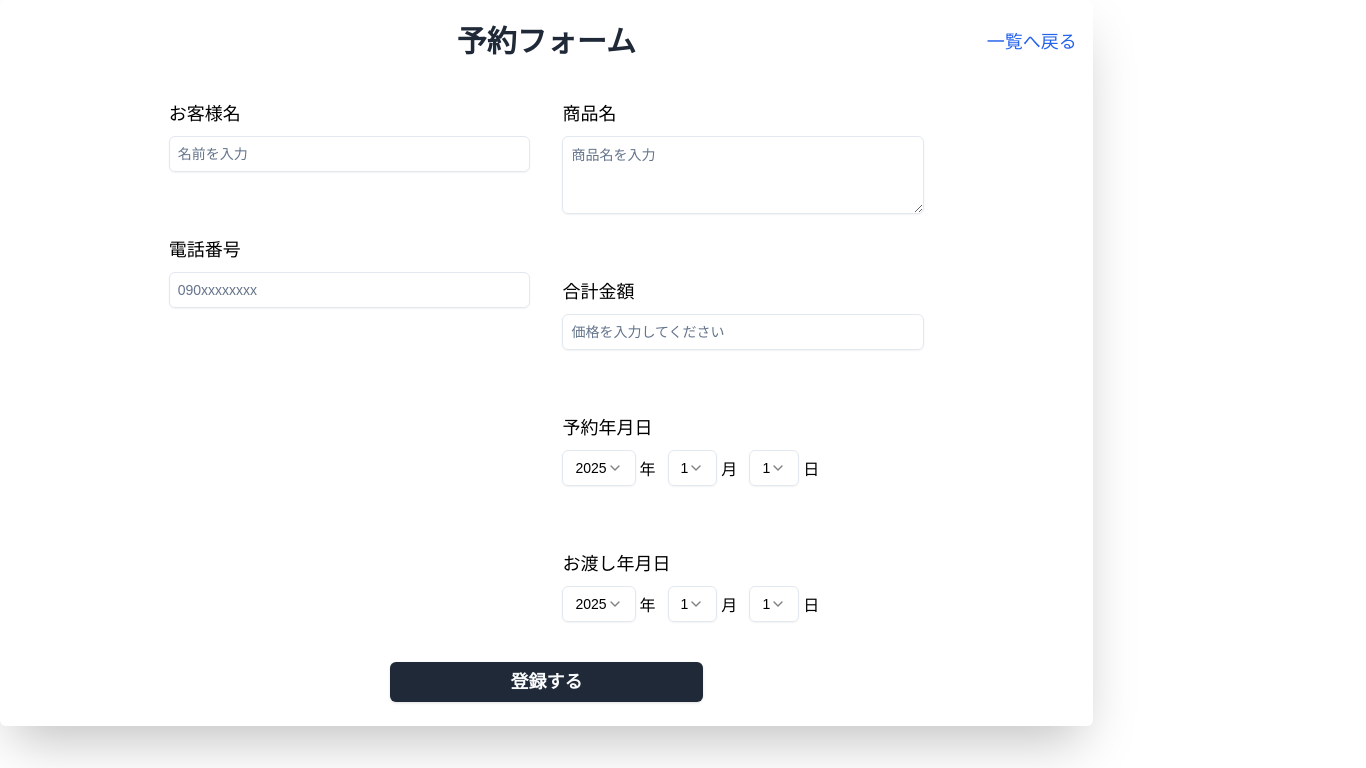
it: CreateForm › APIが失敗した場合、エラーメッセージが表示される
In the field labelled "お客様名": (350, 154) [169,136,530,172], type "テストユーザー"
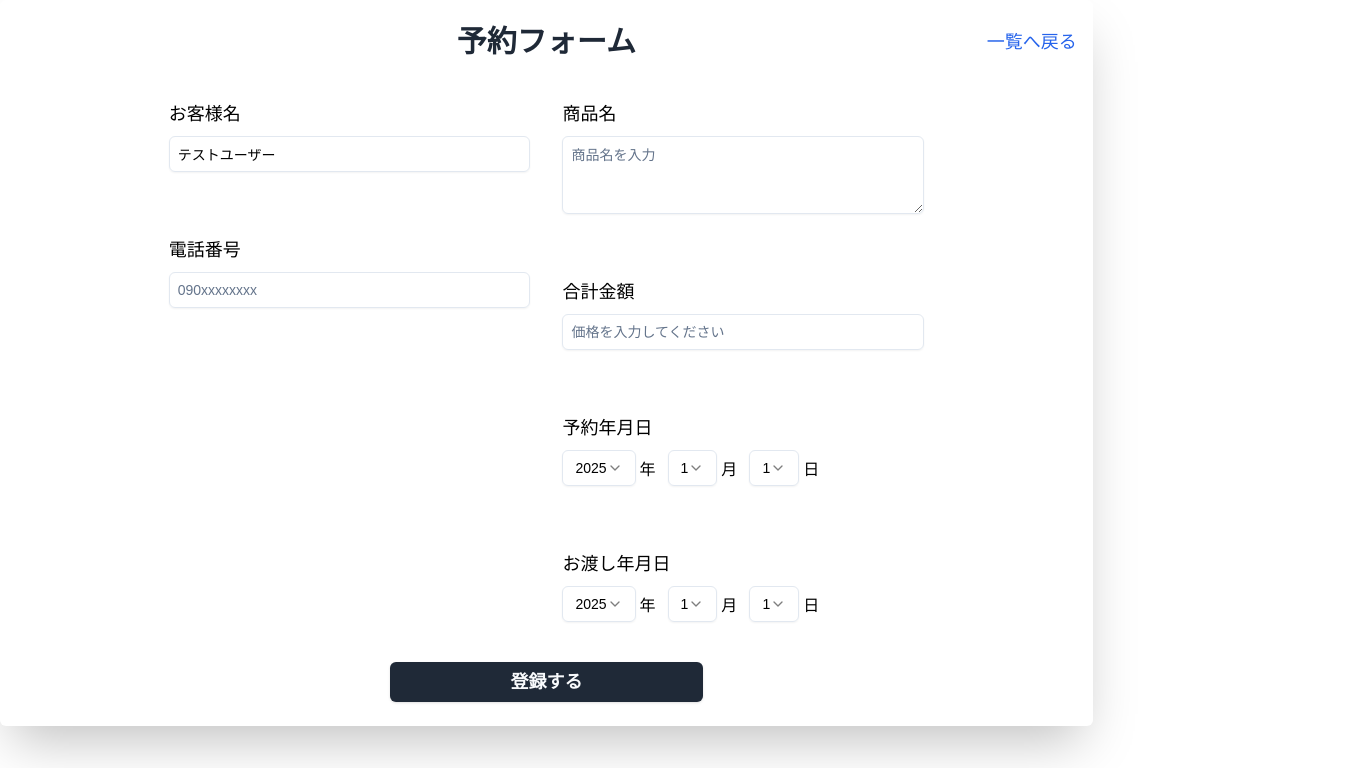
In the text box labelled "商品名": (743, 175) [562,136,924,214], type "テスト商品"
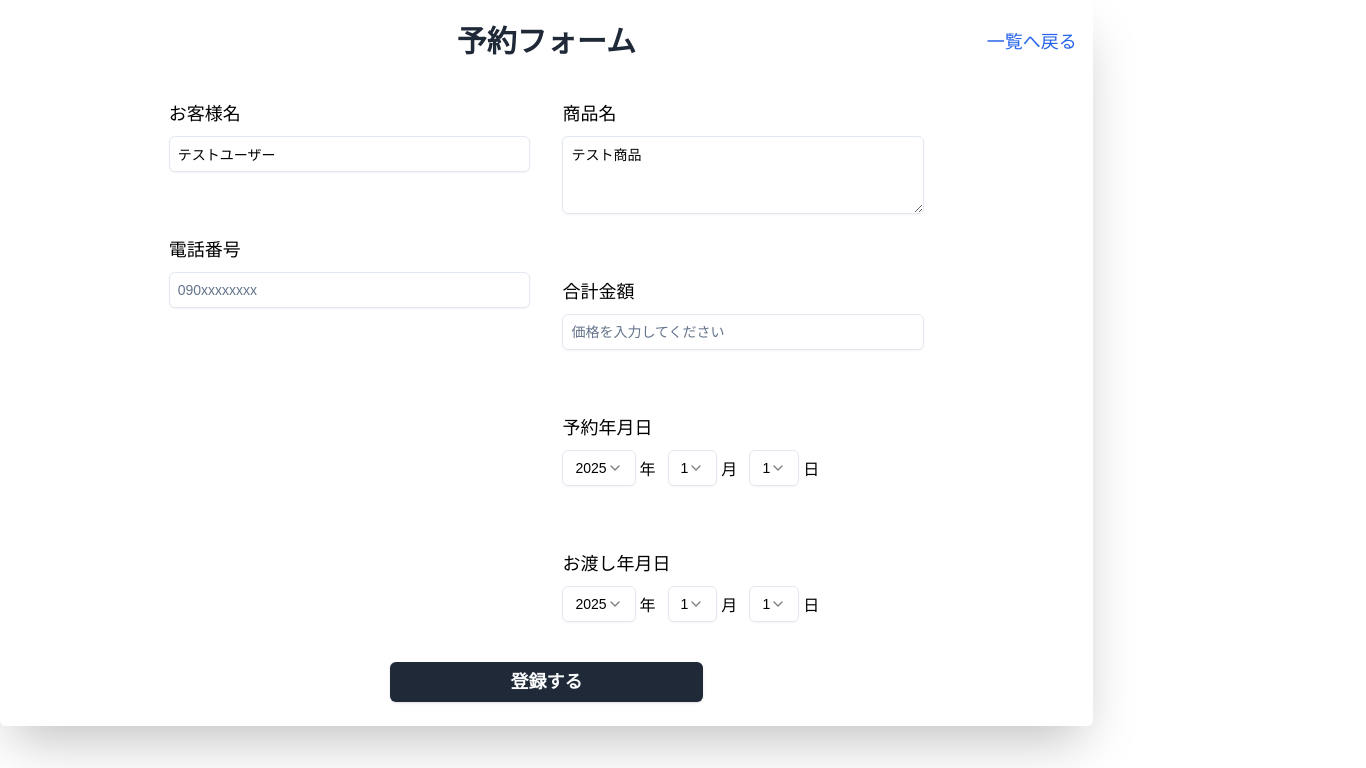
In the field labelled "合計金額": (743, 332) [562,314,924,350], type "5000"
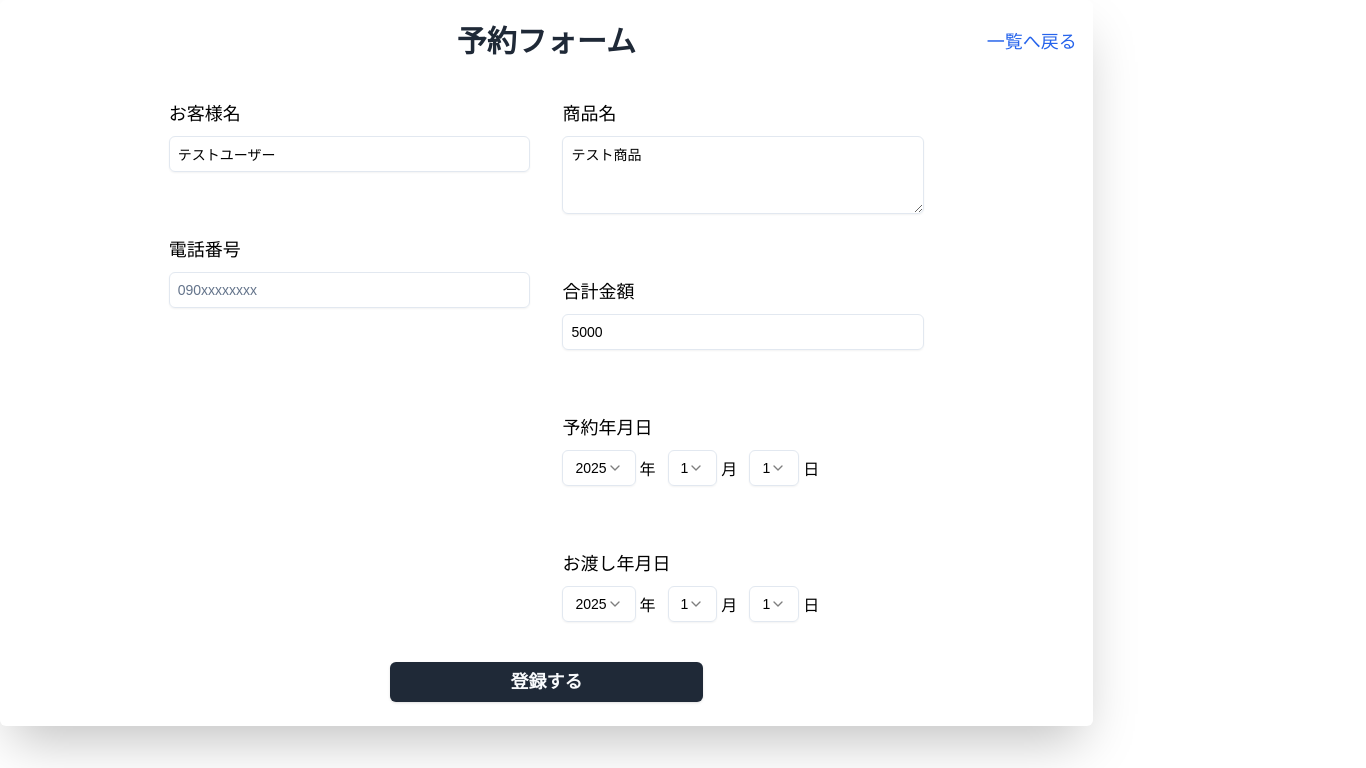
Click the button "登録する": (546, 682) [390,662,703,702]
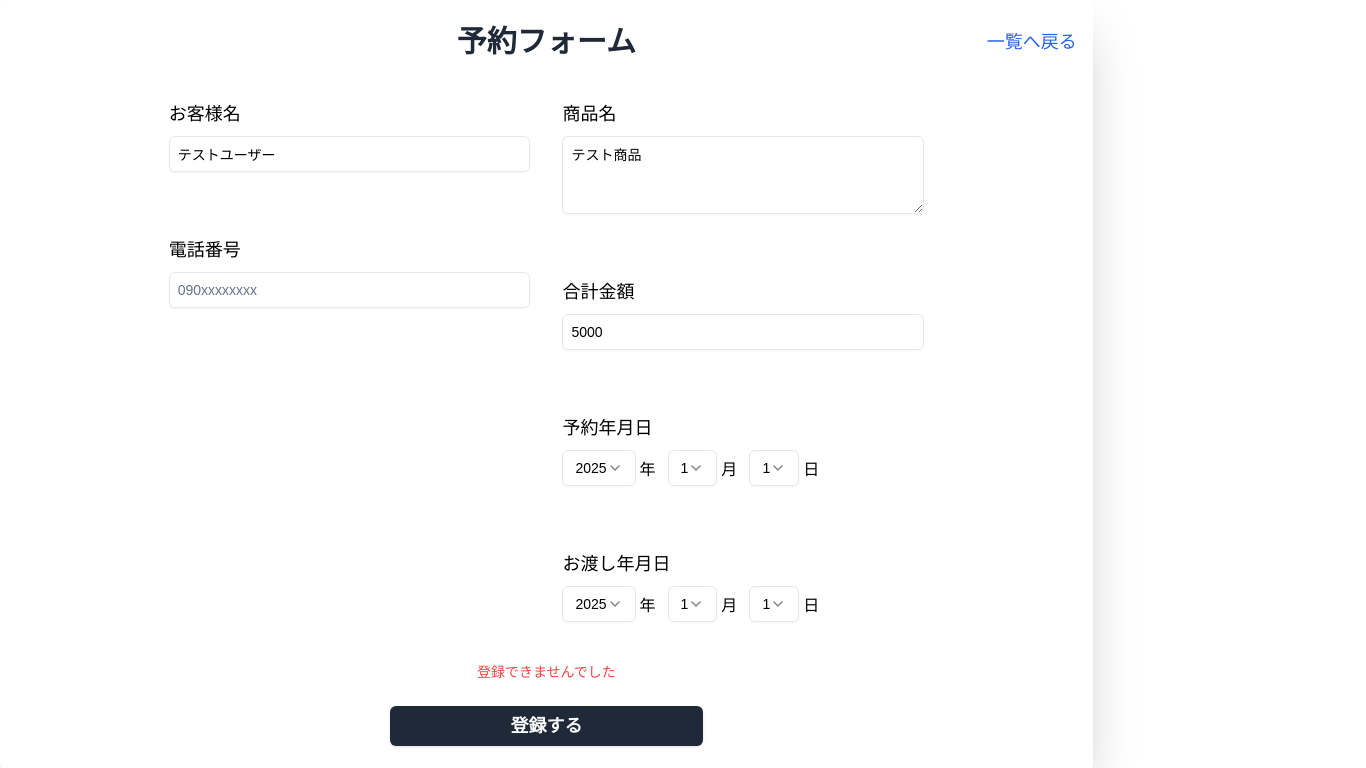
Expected: the text "登録できませんでした" is shown, [477,662,616,682]
